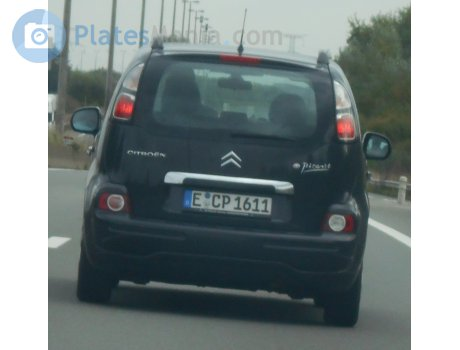License Plates: (189, 191, 273, 213)
